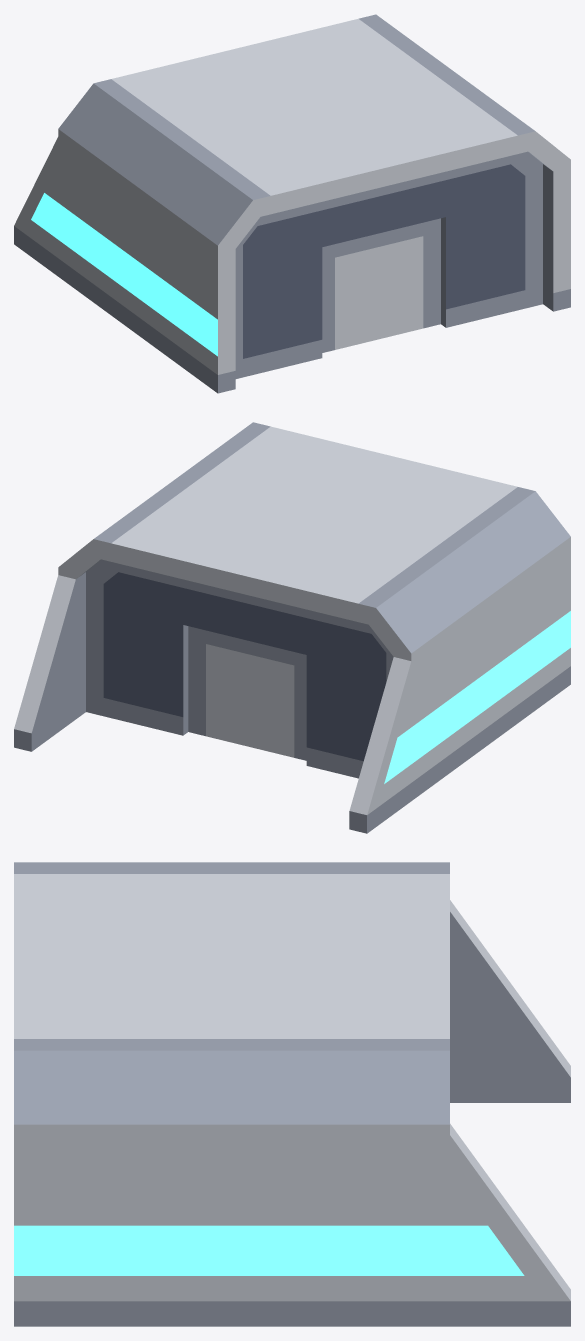
Rendered from hangar_smallB.glb.
The picture shows the model from 3 angles, top to bottom: view 1: azimuth 30°, elevation 25°; view 2: azimuth 150°, elevation 25°; view 3: azimuth 270°, elevation 25°; orthographic projection. The views are drawn at different scales.
Visible parts, largest first — view 1: hangar_smallB, gate; view 2: hangar_smallB, gate; view 3: hangar_smallB.
Boxes of the visible parts, box(x1,y1,x2,y2) form: hangar_smallB: box(14, 14, 570, 393); gate: box(235, 151, 542, 378); hangar_smallB: box(14, 422, 570, 833); gate: box(86, 559, 393, 778); hangar_smallB: box(14, 862, 570, 1326).
Size of the model in its own units: 2 by 1 by 2.
